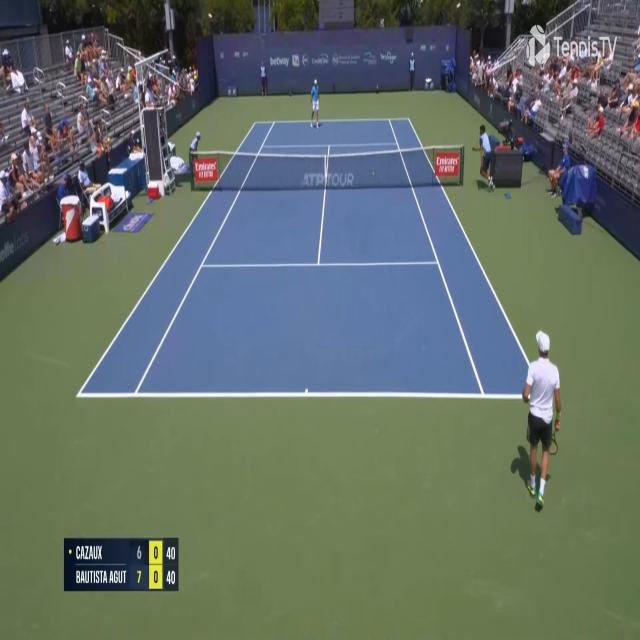tennis-player: (513, 324, 564, 506), (309, 76, 321, 131)
